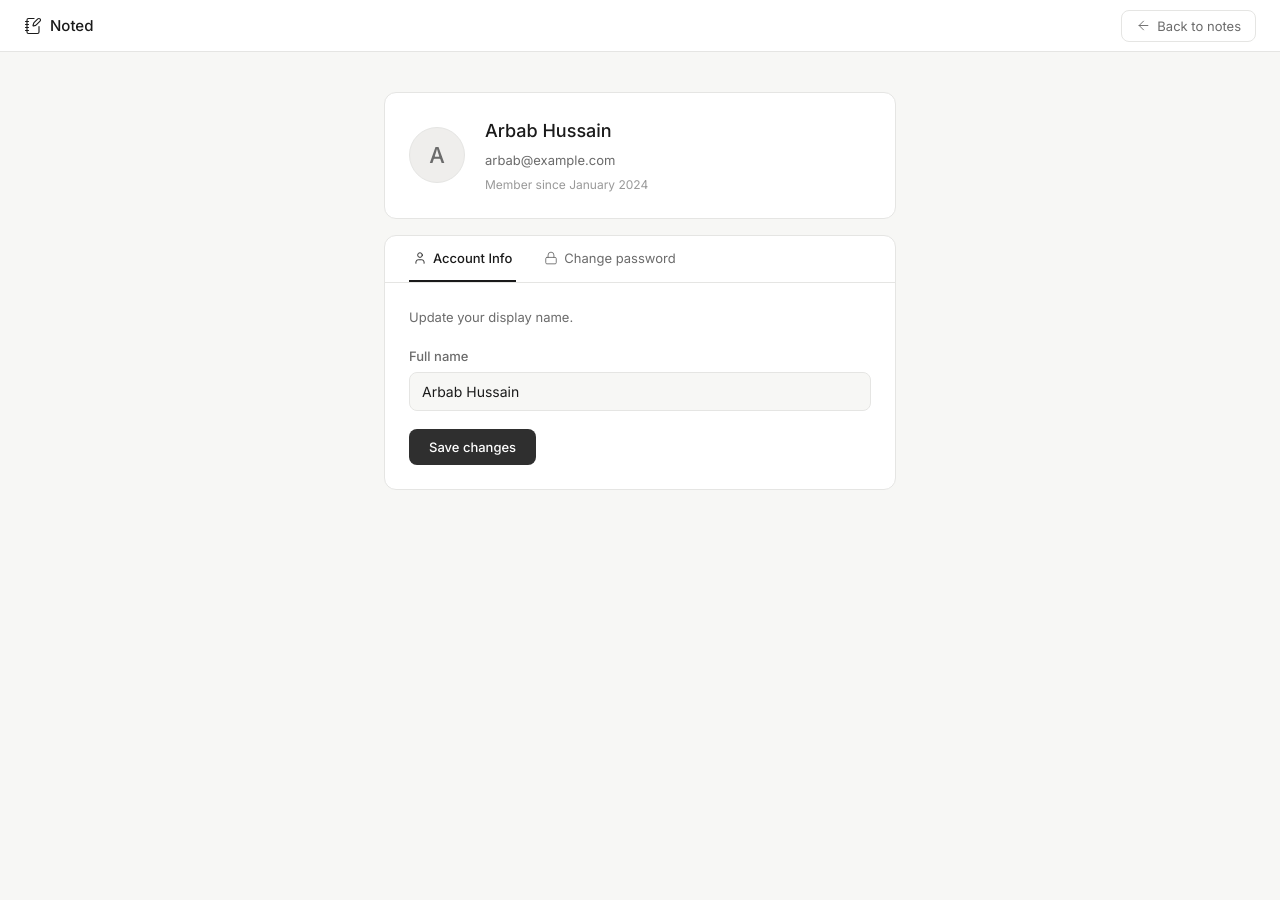
Scenario: Profile Page › should switch to change password tab on click
Check: the heading "Arbab Hussain" is shown, box [485,120,612,141]
What coordinates should you click on to do the following:
click the button "Change password"
I would click on:
 (610, 259)
Its box is [540,236,680,282].
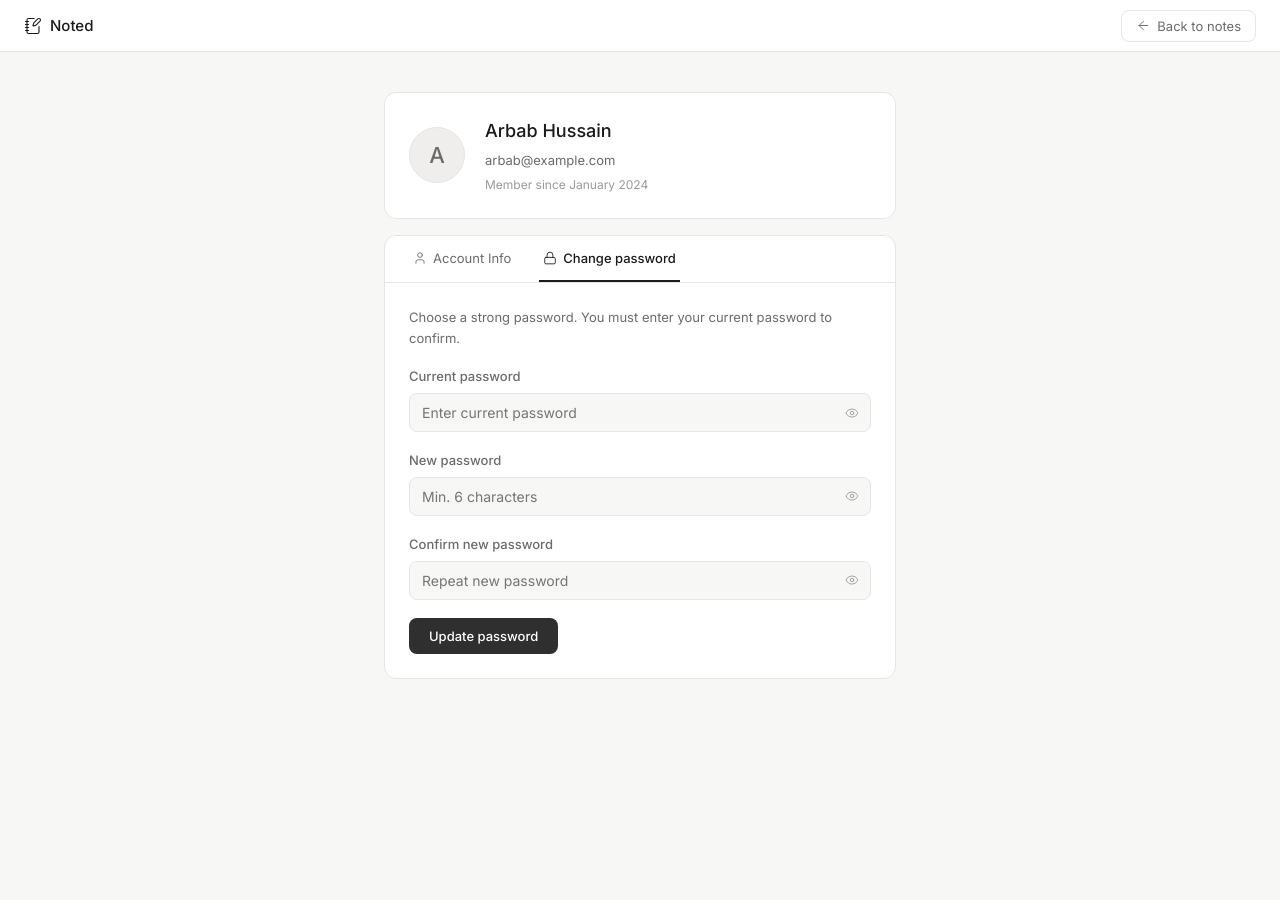
Check: the password field with placeholder "Enter current password" is shown, box [409,393,871,432]
Check: the password field with placeholder "Min. 6 characters" is shown, box [409,477,871,516]
Check: the password field with placeholder "Repeat new password" is shown, box [409,561,871,600]
